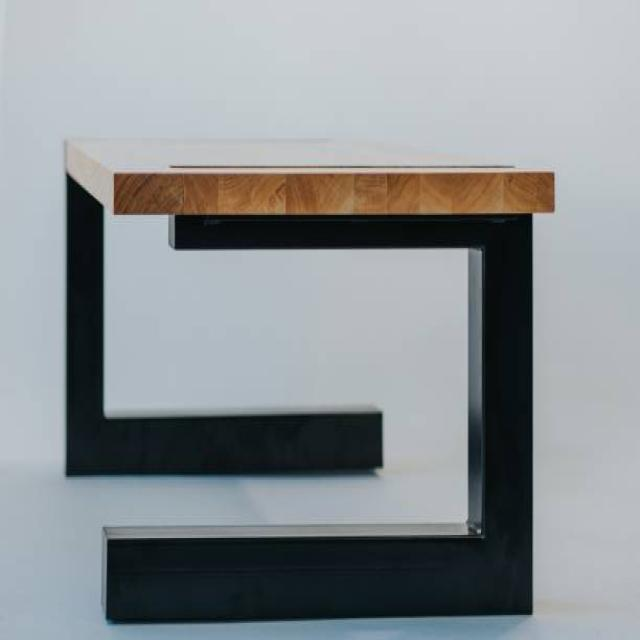table: (62, 135, 556, 624)
